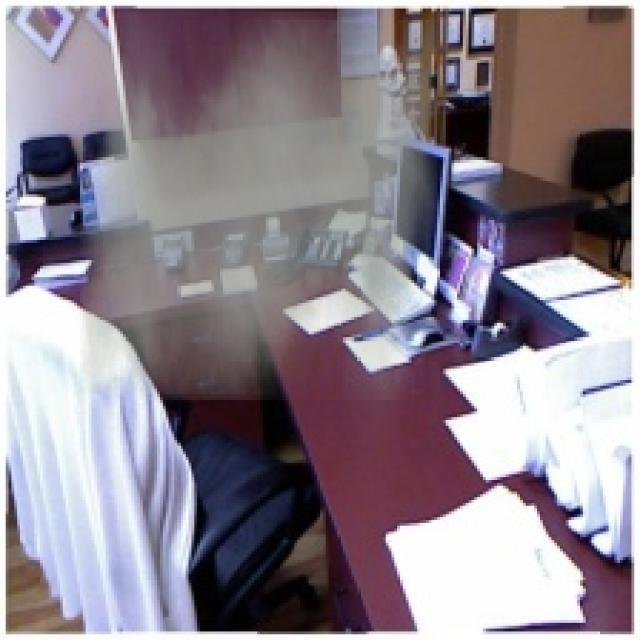Smoke: (80, 11, 437, 400)
